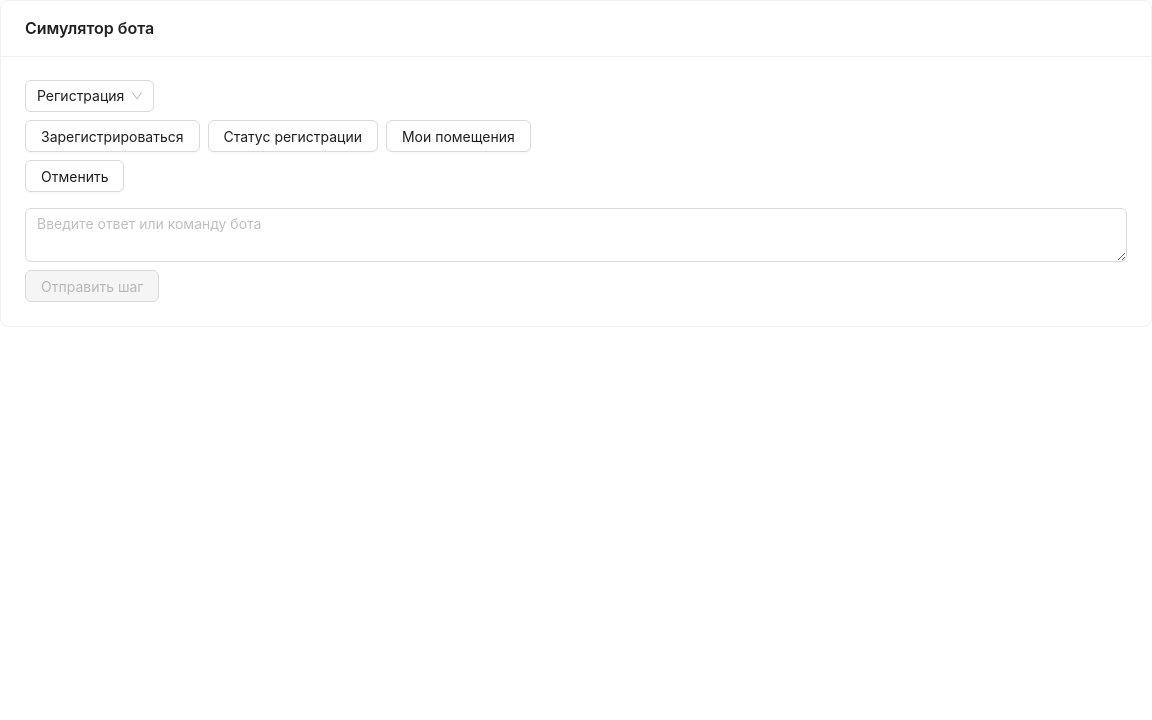
Test: показывает кнопки сценария и отправляет их data вместо подписи
Click the button "Зарегистрироваться" at (112, 136), box [25, 120, 200, 152]
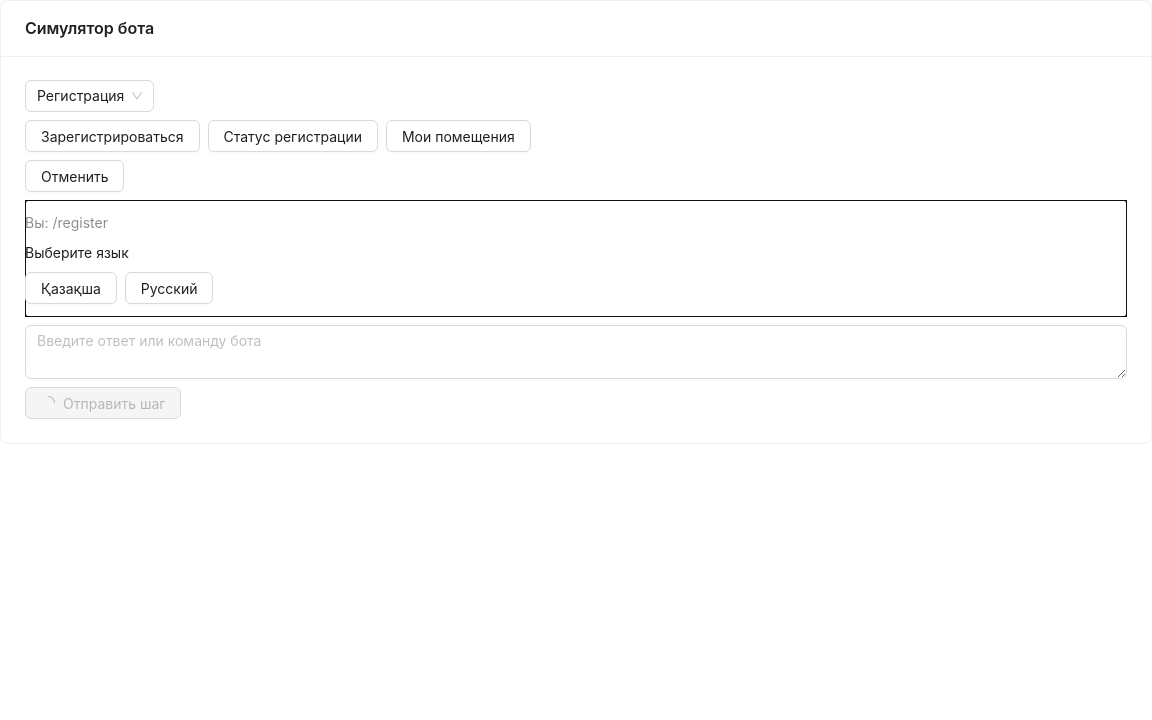
Click the button "Қазақша" at (71, 288), box [25, 272, 117, 304]
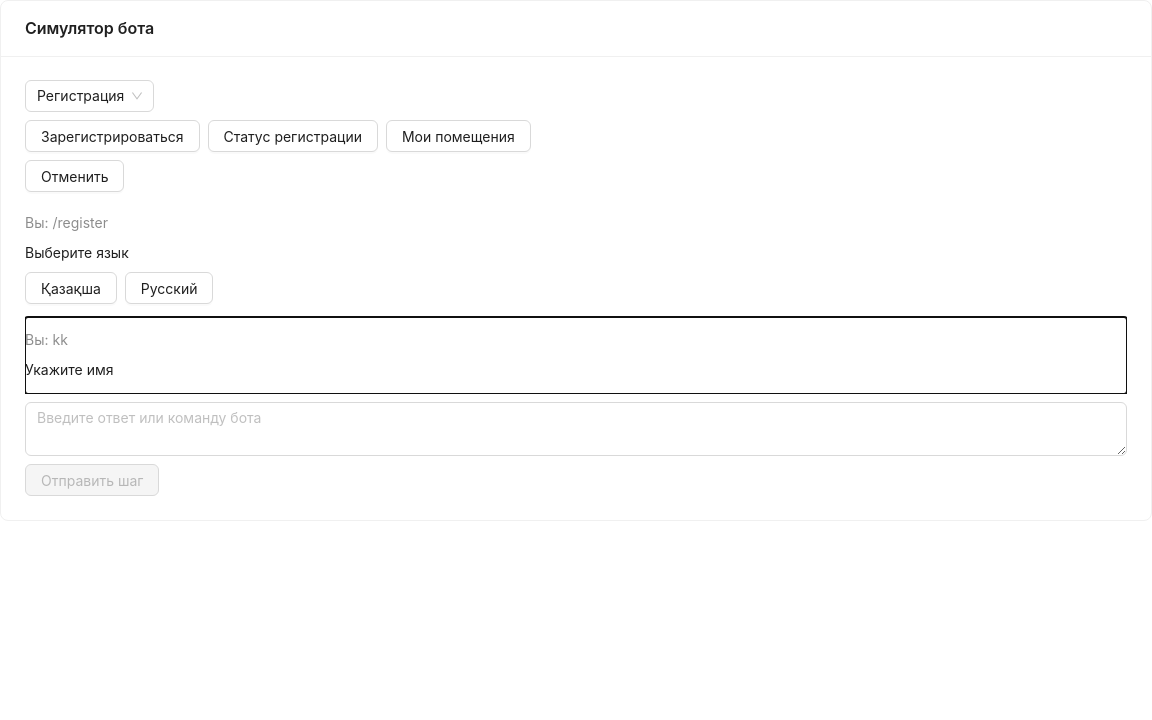
expect the text "Укажите имя" is shown: met, box [25, 361, 114, 378]
